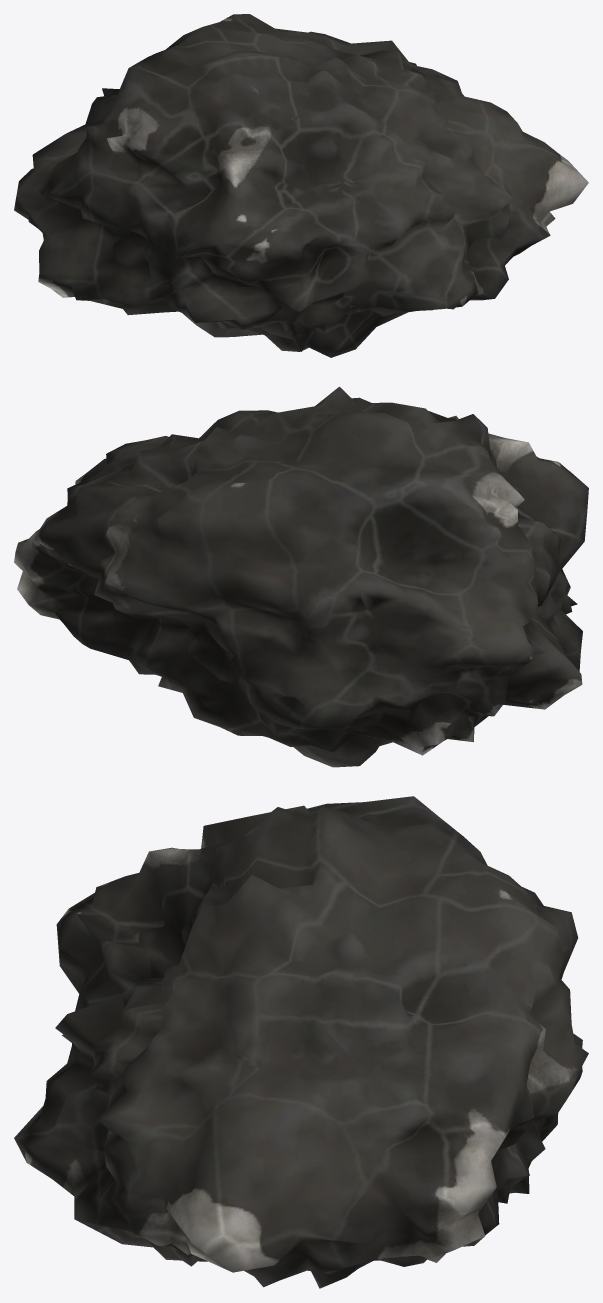
The model's file is asteroid_d.glb.
3 renders of one model, top to bottom at view 1: azimuth 30°, elevation 25°; view 2: azimuth 150°, elevation 25°; view 3: azimuth 270°, elevation 25°, orthographic. The views are drawn at different scales.
Visible parts, largest first — view 1: Asteroid_D; view 2: Asteroid_D; view 3: Asteroid_D.
Part boxes in pixels (x1,y1,x2,y2): Asteroid_D: (14, 14, 588, 357); Asteroid_D: (14, 386, 588, 767); Asteroid_D: (14, 796, 588, 1288).
Size of the model in its own units: 1.86 by 1.08 by 1.39.
1 material, 1 textured.
